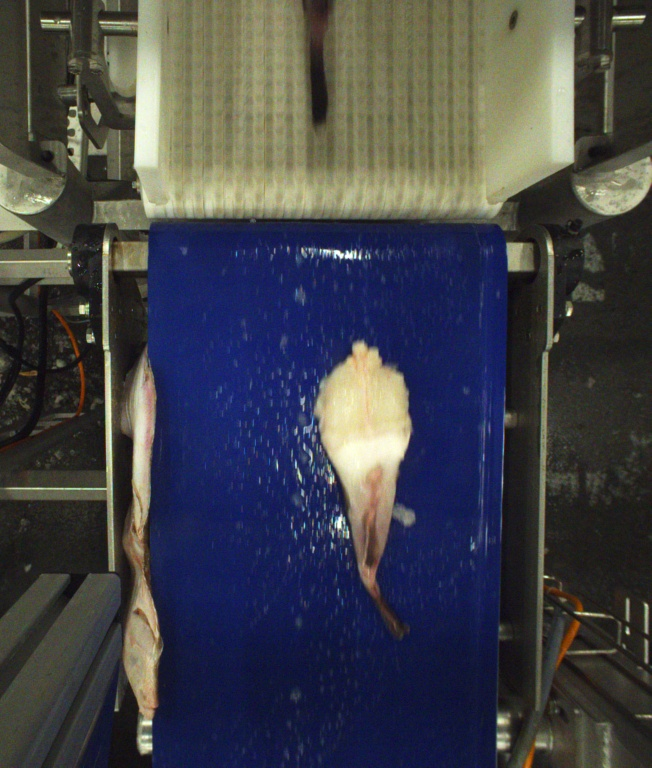ANF: (314, 336, 410, 646)
